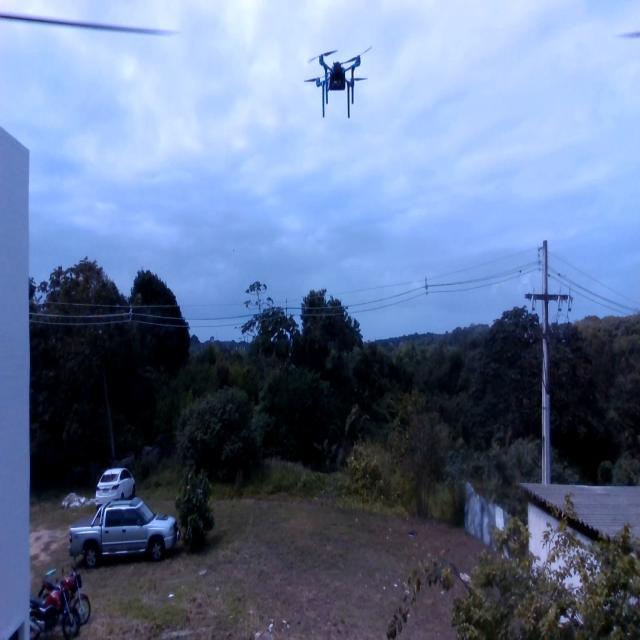-uav-: (298, 38, 374, 126)
